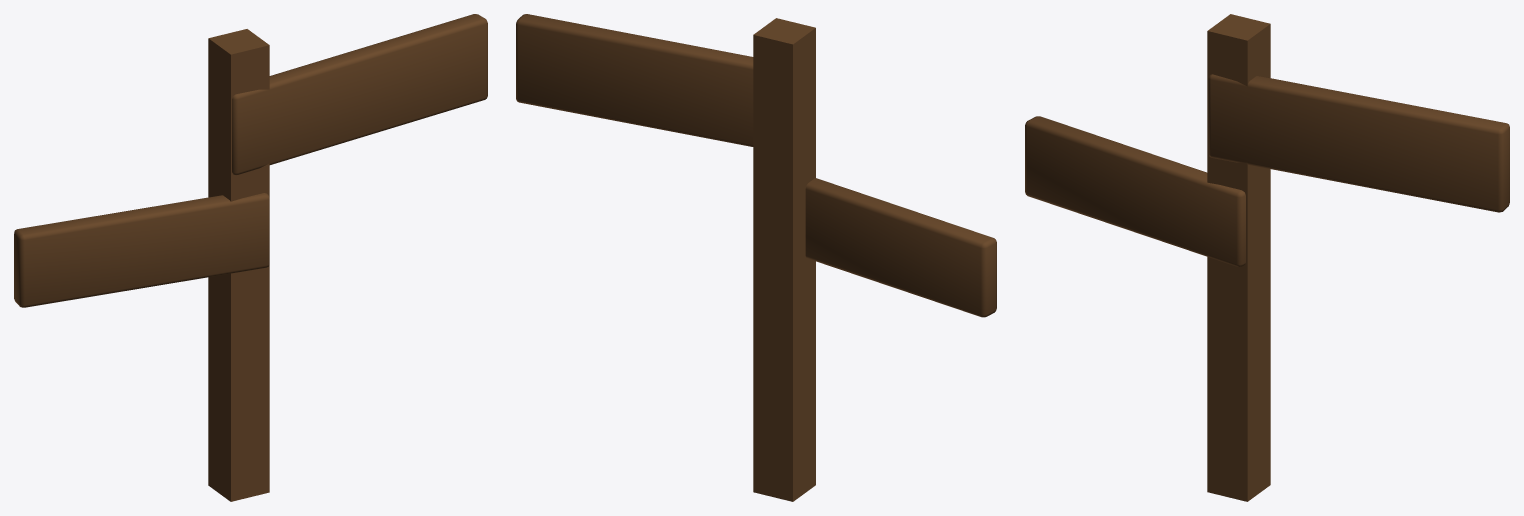
File: signpost.glb
3 views of the same model, side by side, from view 1: azimuth 30°, elevation 25°; view 2: azimuth 150°, elevation 25°; view 3: azimuth 330°, elevation 25° (orthographic). The views are drawn at different scales.
Parts seen in each view (by area): view 1: signpost; view 2: signpost; view 3: signpost.
Boxes of the visible parts, <box> form: signpost: <box>14,14,487,501</box>; signpost: <box>516,14,996,501</box>; signpost: <box>1025,14,1509,501</box>.
Bounding box in the file's own units: 2.4 × 2.2 × 0.2722.
